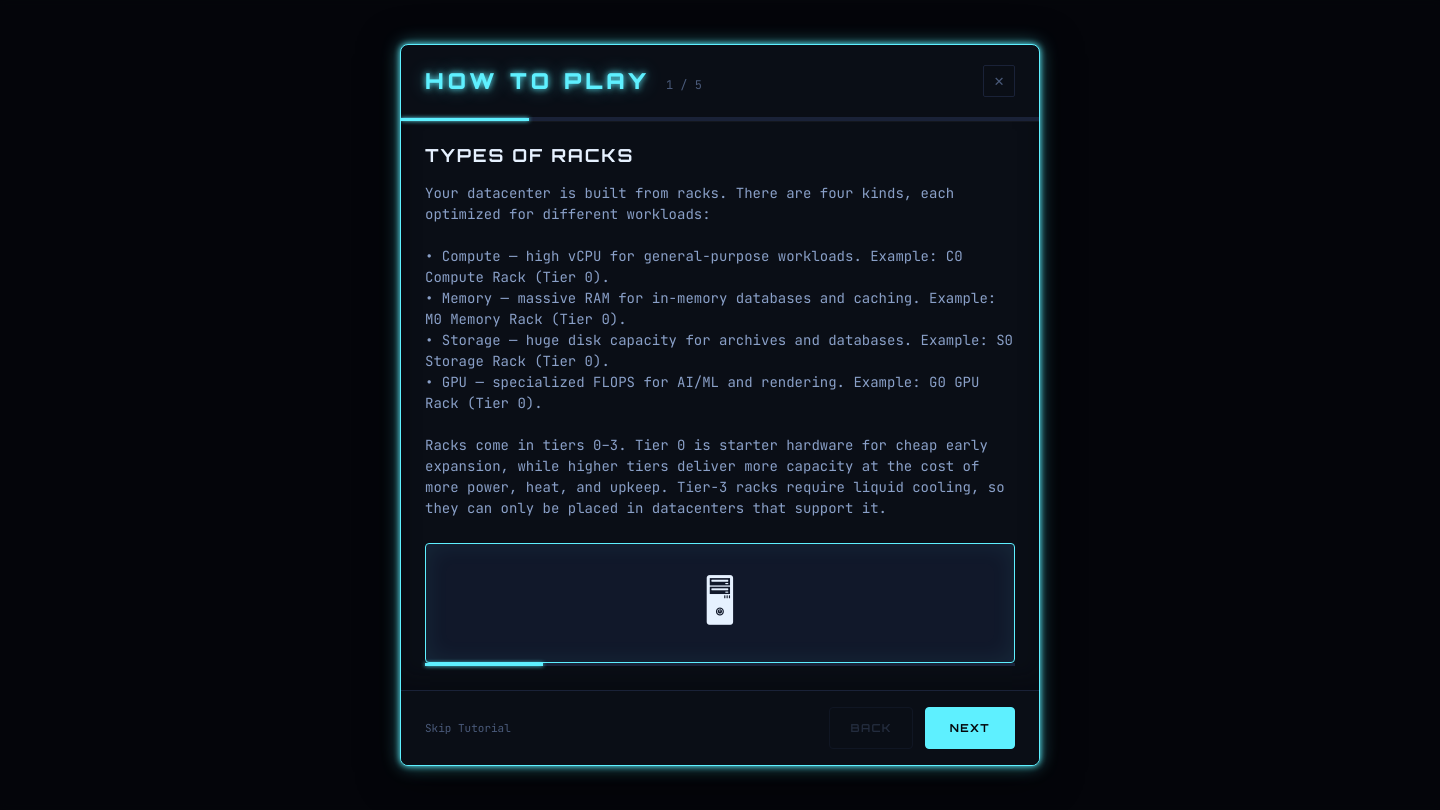
Scenario: TutorialModal › clicking Back returns to step 1
What coordinates should you click on to do the following:
click the button "Next"
I would click on:
 (970, 728)
Its box is [925,706,1015,749].
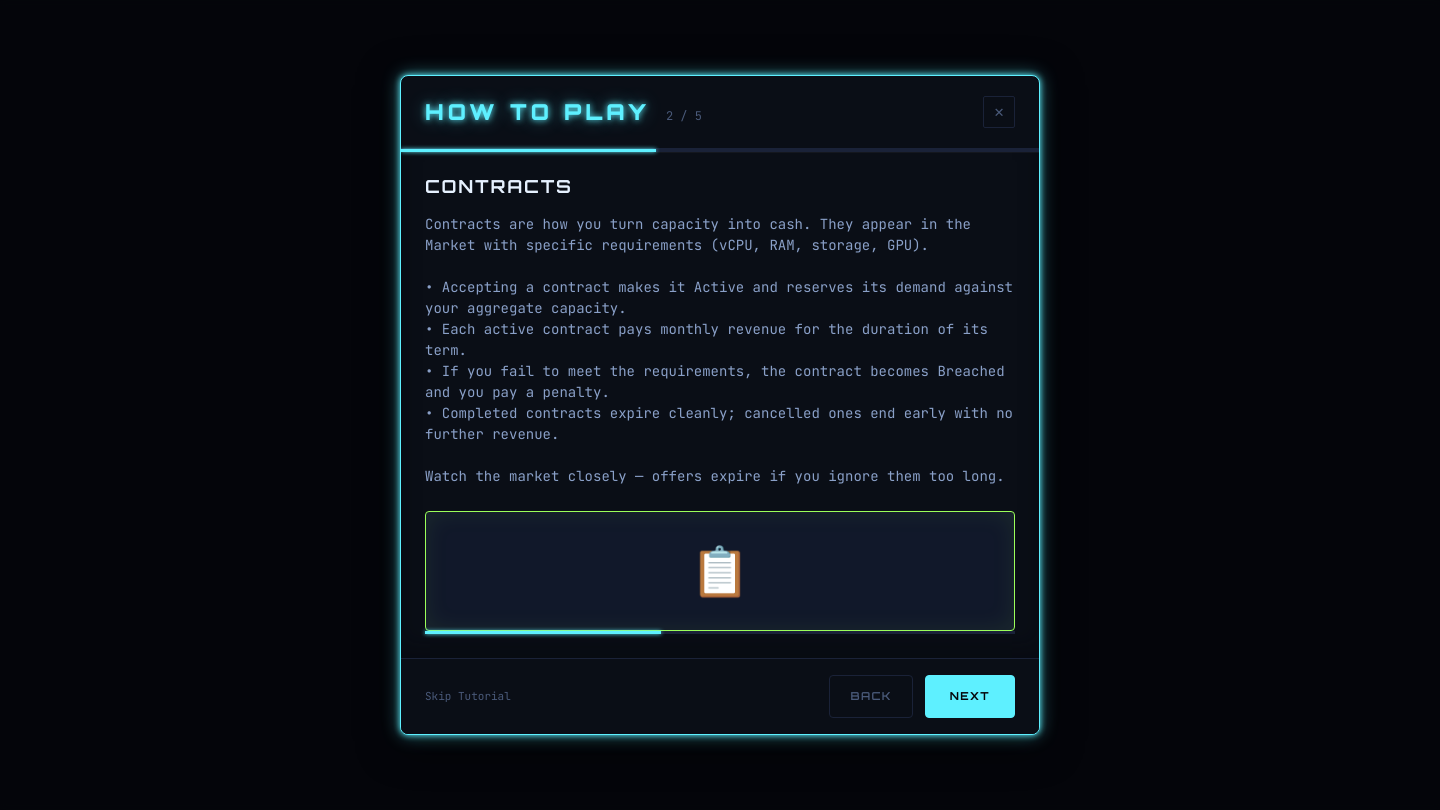
What coordinates should you click on to do the following:
click the button "Back"
I would click on:
 (871, 696)
Its box is [829,675,913,718].
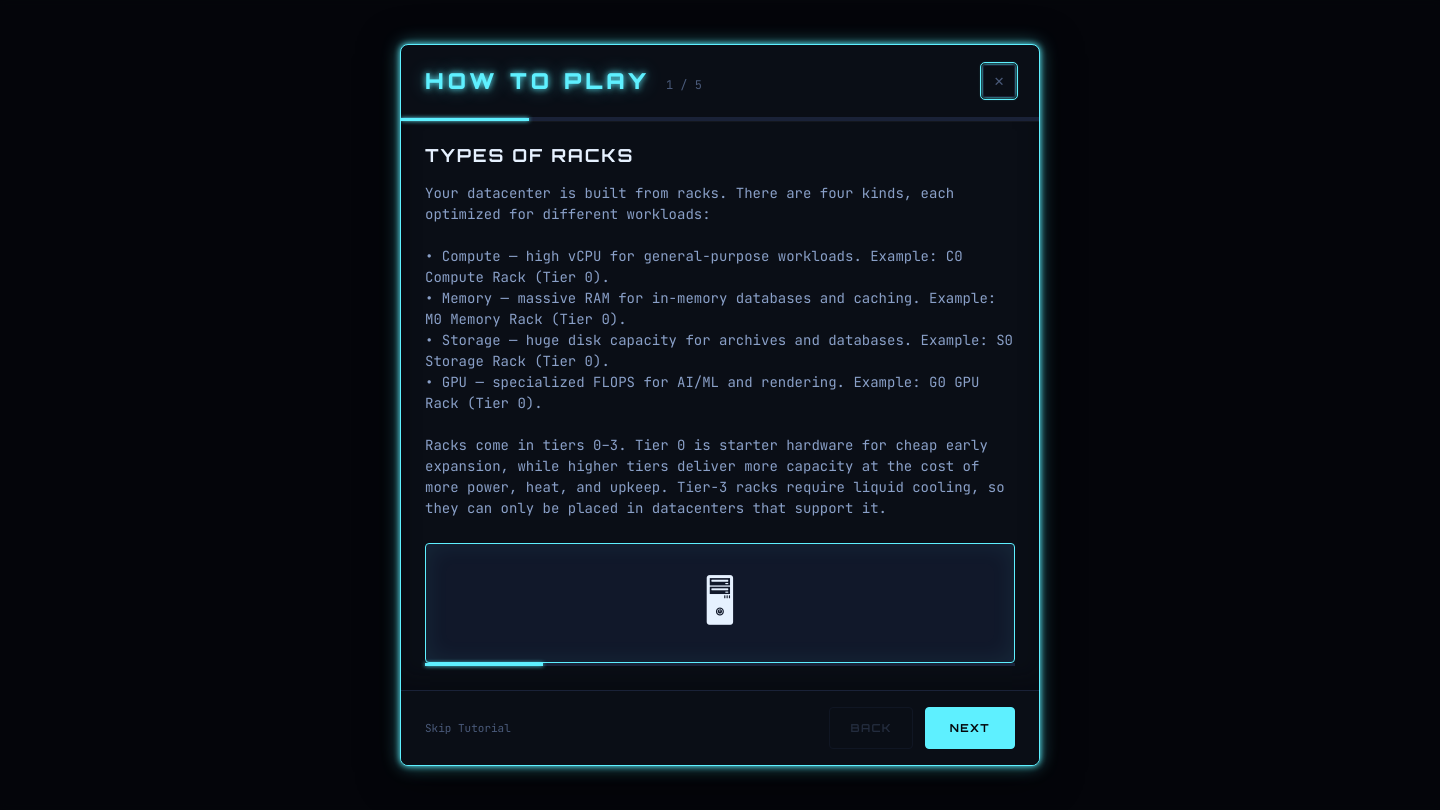
Now the heading "Types of Racks" is shown, box [425,144,634,166]
Now the text "1 / 5" is shown, box [666,76,702,94]
